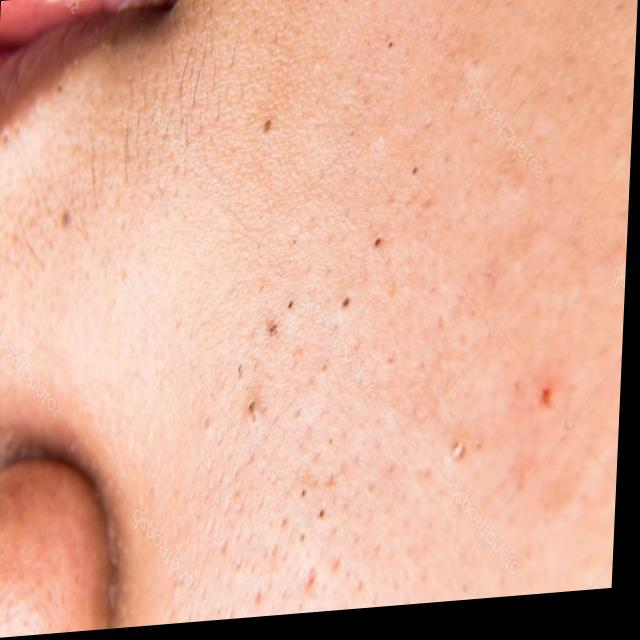dark spot: (370, 229, 393, 266), (247, 397, 268, 428), (266, 311, 285, 345), (259, 115, 280, 144), (340, 297, 357, 316), (289, 297, 298, 323)
